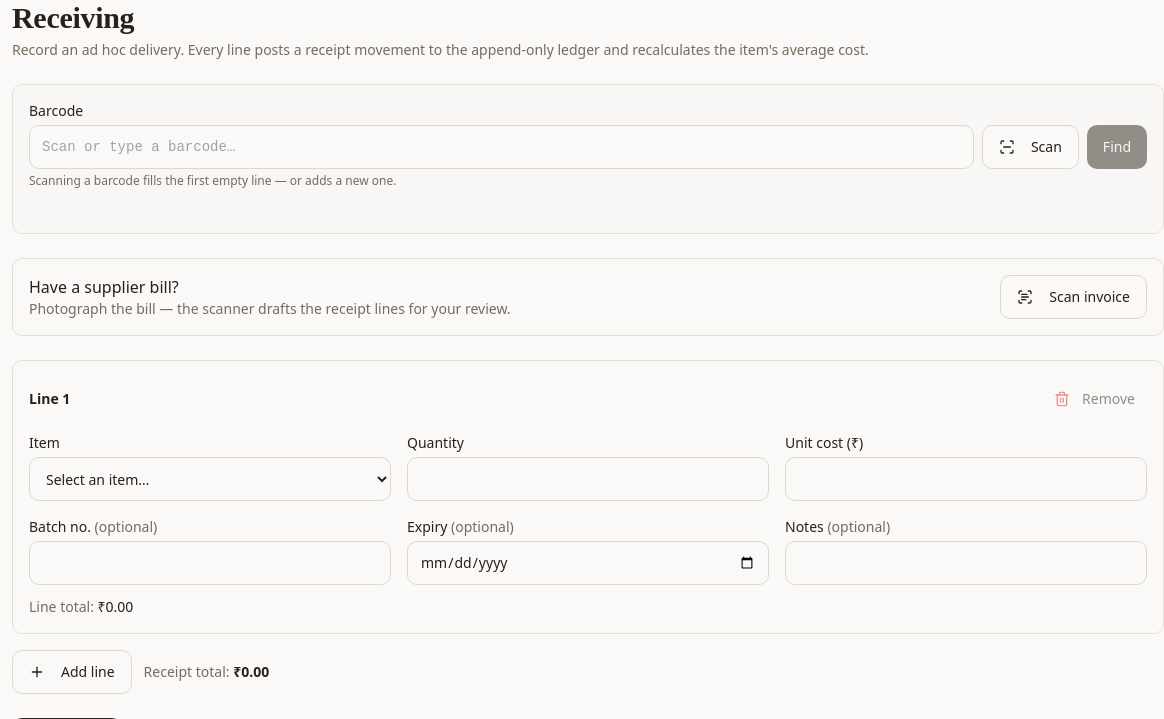
Scenario: ReceivingPage › barcode quick-add appends a new line when every line has an item
Fill line 1 via the picker first.
Select "Rice (kg)" in the dropdown labelled "Item": (210, 479) [29, 457, 391, 501]
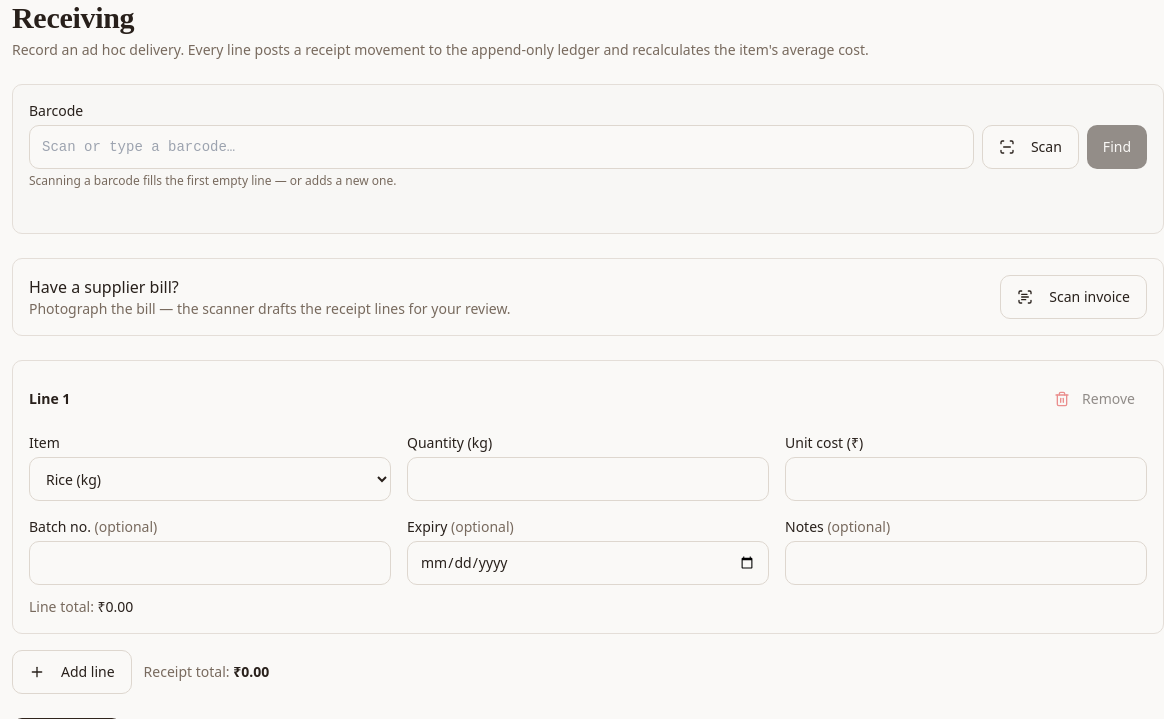
Resolve the barcode: no empty line remains, so a second line appears.
In the field labelled "Barcode": (501, 147) [29, 125, 974, 169], type "8901234567890"
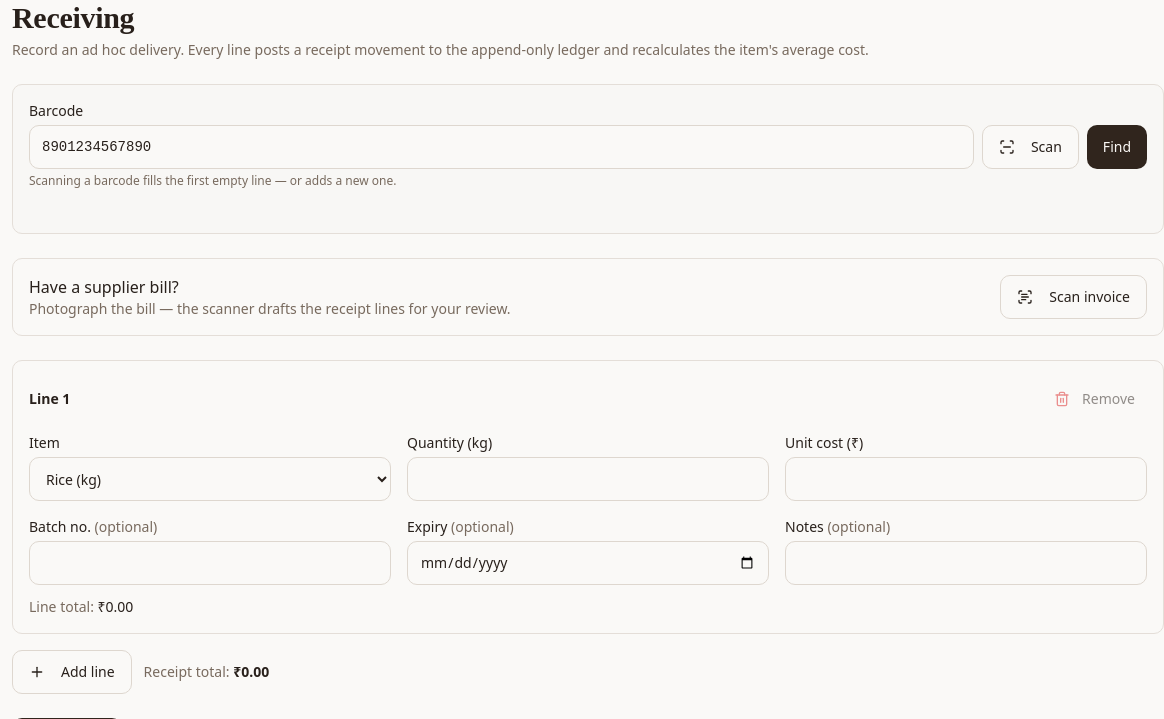
Click the button "Find": click(1117, 147) [1087, 125, 1147, 169]
(page scrolled)
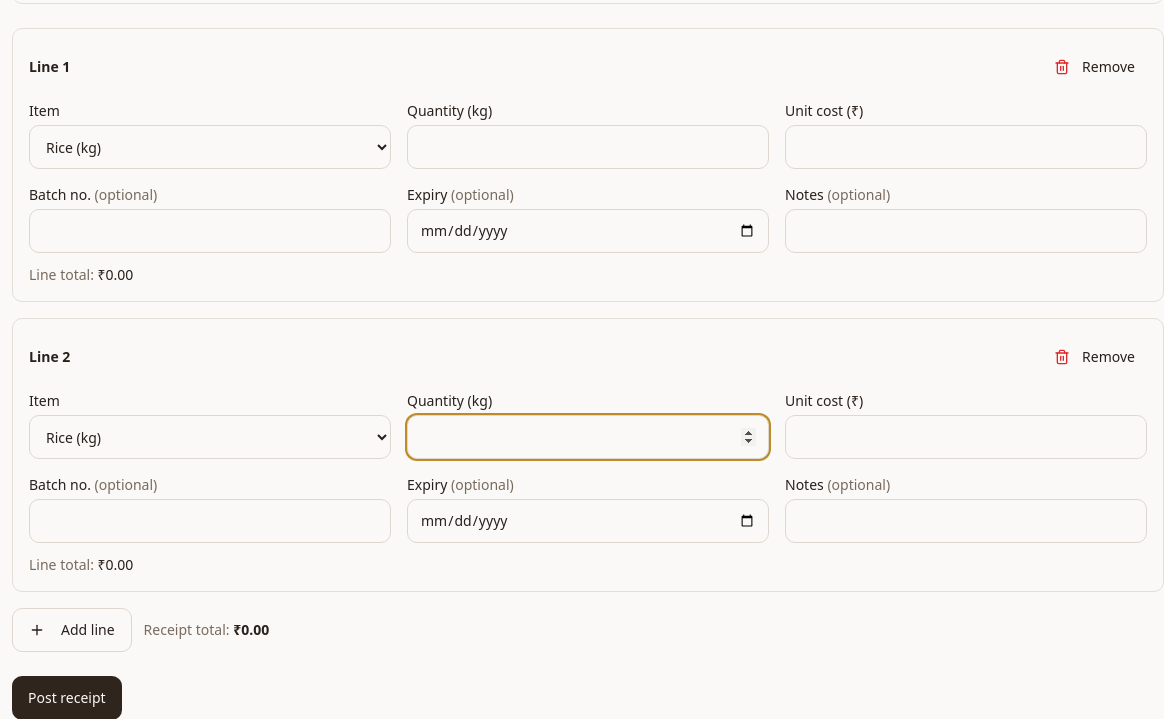
Check: the number of dropdowns labelled "Item" is 2, box [29, 125, 391, 169]; [29, 415, 391, 459]
Check: the text "Line 2" is shown, box [29, 347, 70, 367]
Check: the 2nd dropdown labelled "Item" shows "Rice (kg)", box [29, 415, 391, 459]
